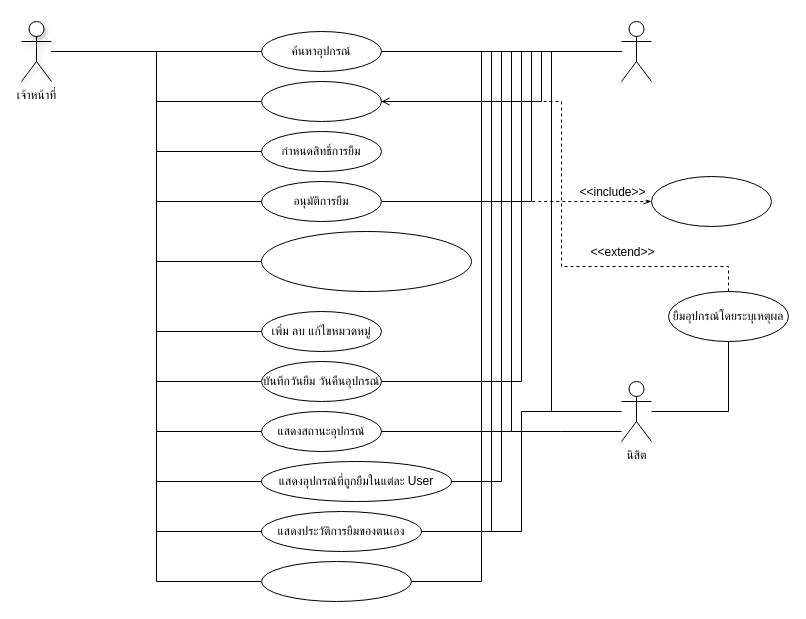
Some shapes in this 806 by 619 pixel diagram are drawn without their labels. The shapes that lost their labels are listed below. From the top down, each one's centre as x and y in pixels, then its label:
At [636,51]: "อาจารย์".
At [321,101]: "ยืมอุปกรณ์".
At [711,201]: "ดูคำร้องการยืม".
At [366,261]: "เพิ่ม ลบ แก้ไข กำหนดหมวดหมู่ในแต่ละอุปกรณ์".
At [336,581]: "แสดงสถิติการยืมทั้งระบบ".
